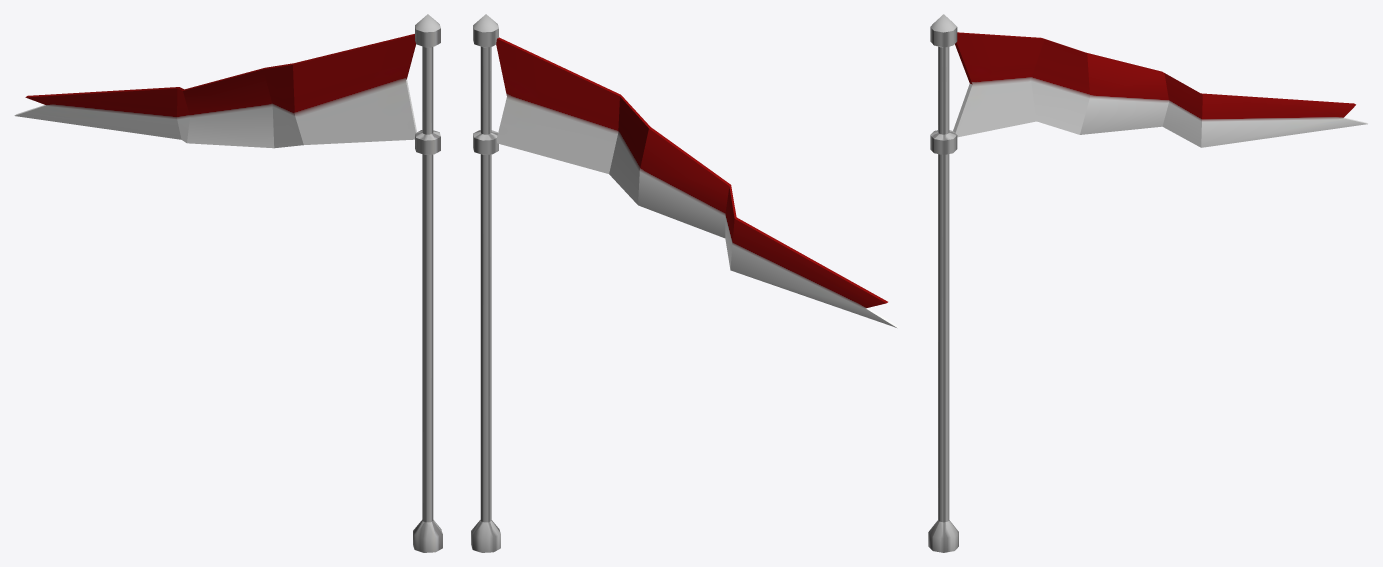
File: castle-flag-red.glb
3 views of the same model, side by side, from view 1: azimuth 30°, elevation 25°; view 2: azimuth 210°, elevation 25°; view 3: azimuth 270°, elevation 25° (orthographic).
Parts seen in each view (by area): view 1: Castle-flag-red_Texture-base_0; view 2: Castle-flag-red_Texture-base_0; view 3: Castle-flag-red_Texture-base_0.
Part boxes in pixels (left/top/right/bottom): Castle-flag-red_Texture-base_0: left=14, top=14, right=442, bottom=552; Castle-flag-red_Texture-base_0: left=471, top=14, right=899, bottom=552; Castle-flag-red_Texture-base_0: left=928, top=14, right=1367, bottom=552.
Size of the model in its own units: 2.8 by 6.62 by 4.96.
1 material, 1 textured.
